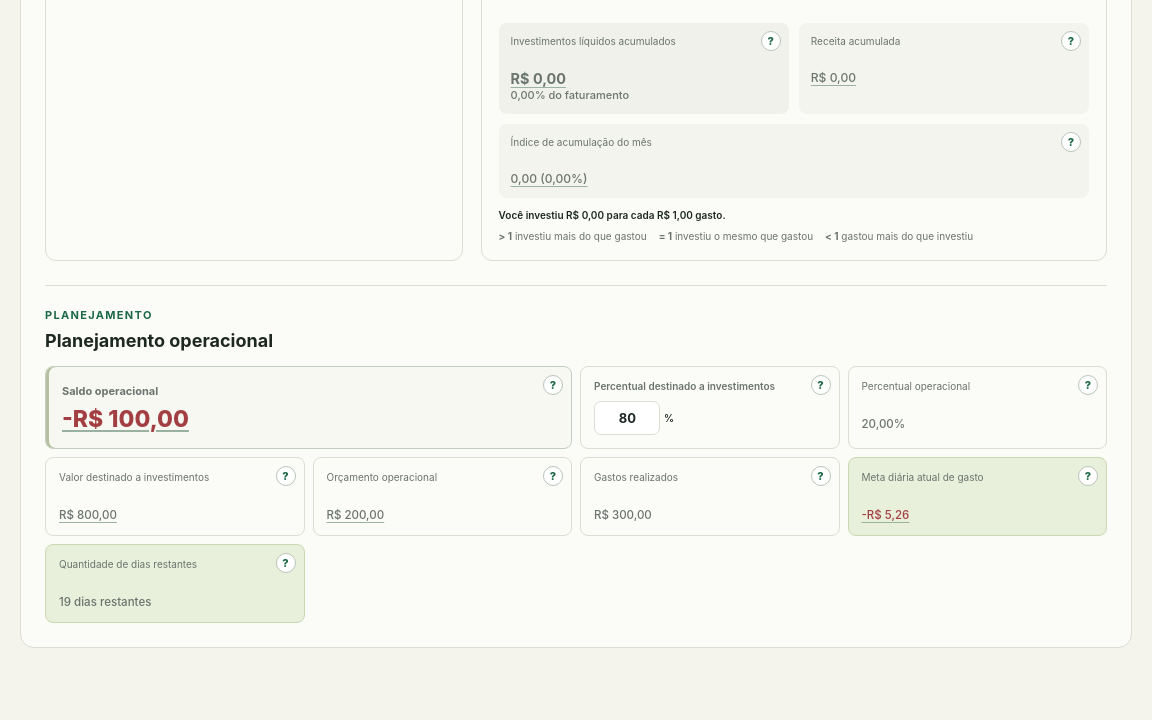
memória de cálculo operacional › mostra saldo, gastos e reutiliza o detalhamento das movimentações
This screenshot has width=1152, height=720.
(page scrolled)
Click the button "-R$ 100,00" at (126, 419), box [58,404,193,435]
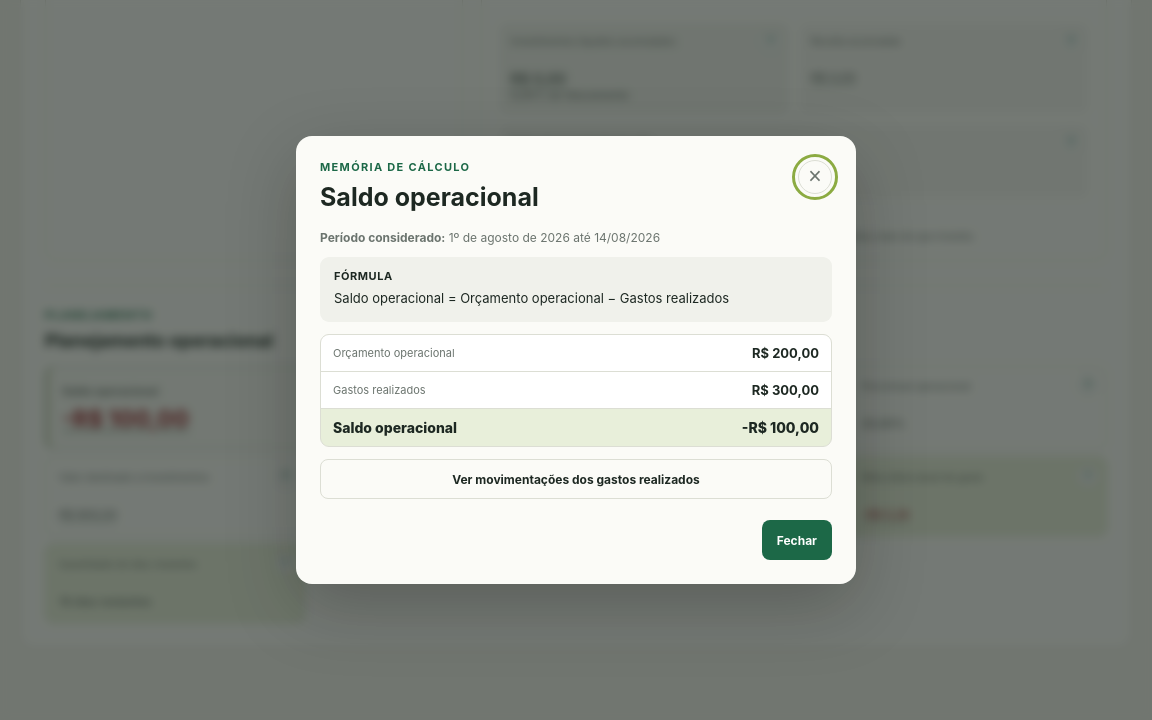
Click the button "Ver movimentações dos gastos realizados" at (576, 479), box [320,459,832,499]
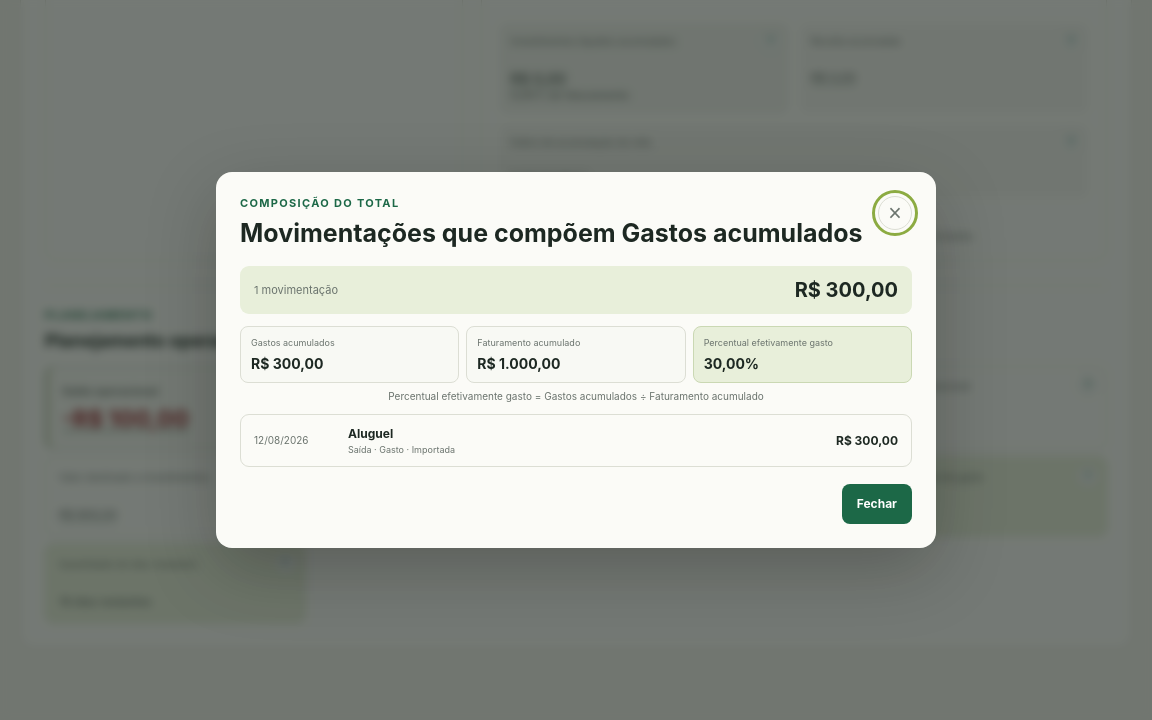
Now the dialog shows "Aluguel", box [348,426,393,441]
